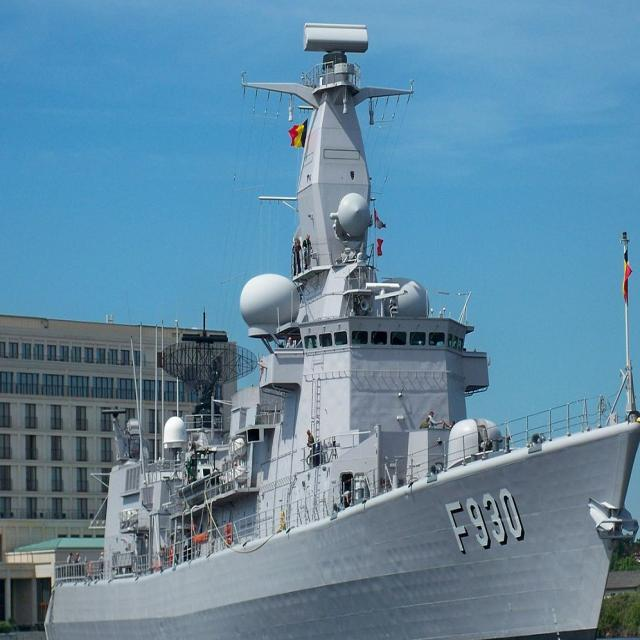Fragata: (1, 9, 417, 640)
